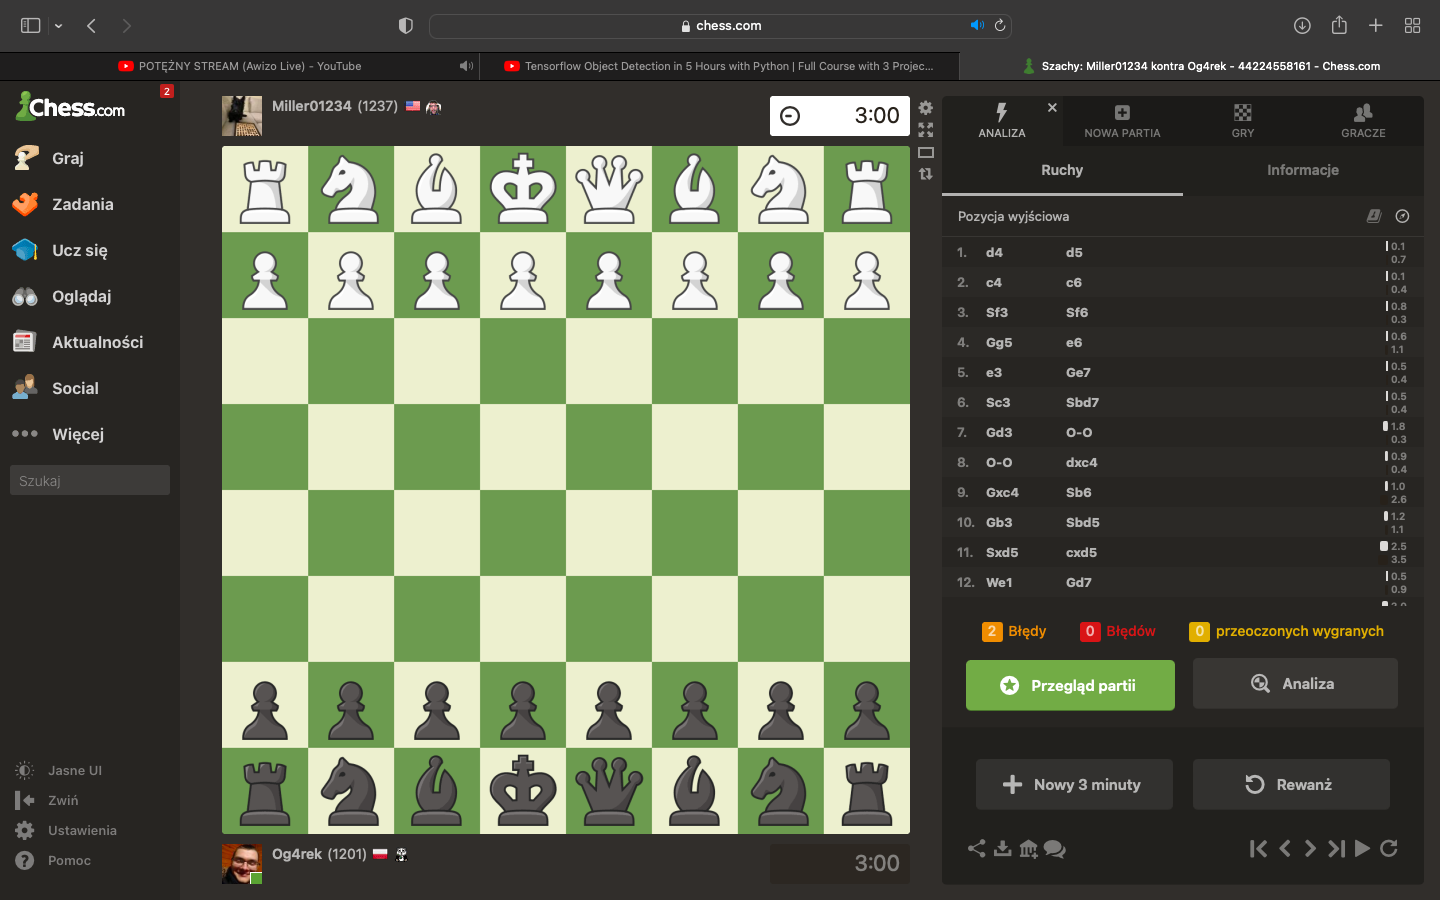bishop: (411, 755, 464, 826), (669, 756, 721, 826), (411, 153, 462, 224), (669, 154, 721, 224)
king: (490, 754, 557, 826), (490, 153, 556, 223)
knight: (749, 756, 809, 826), (750, 154, 810, 225), (319, 757, 379, 826), (322, 156, 379, 224)
pawn: (241, 681, 290, 741), (413, 251, 462, 311), (327, 680, 375, 741), (671, 681, 719, 740), (585, 681, 633, 740), (498, 681, 546, 740), (499, 252, 547, 311), (413, 682, 461, 740), (757, 681, 804, 740), (672, 252, 719, 311), (844, 681, 891, 741), (328, 251, 374, 310), (845, 251, 891, 311), (242, 252, 288, 310), (757, 252, 803, 310), (586, 252, 631, 310)
queen: (575, 757, 645, 826), (575, 154, 644, 224)
rook: (239, 763, 291, 826), (842, 762, 893, 826), (241, 160, 290, 225), (842, 161, 893, 223)
